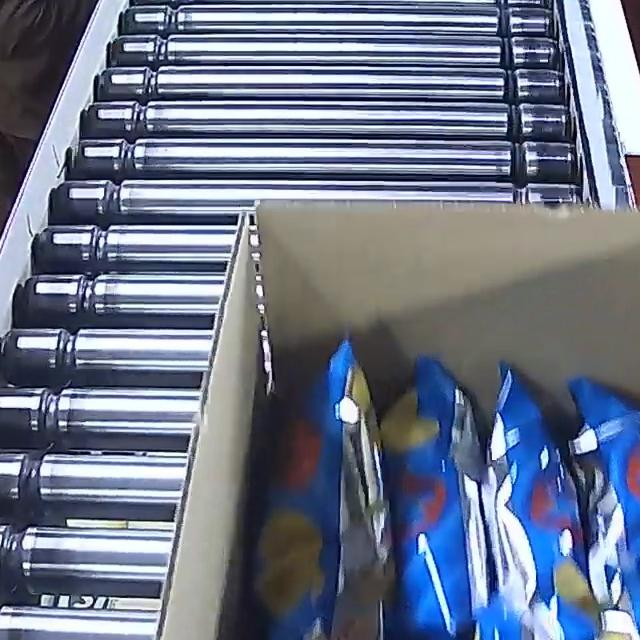paprika: (215, 330, 640, 640)
